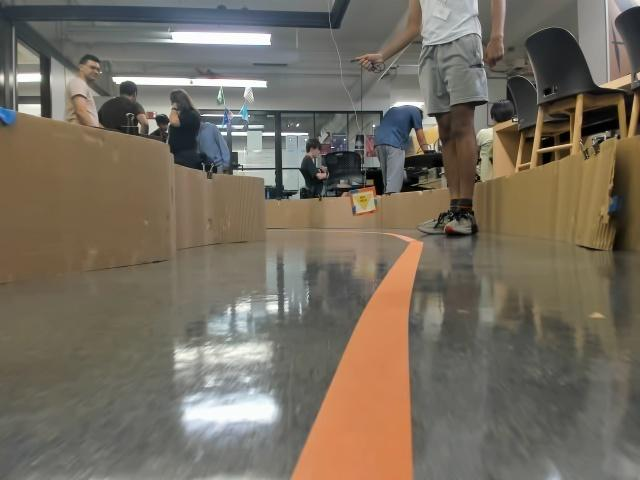Do Not Yield: (352, 197, 371, 210)
